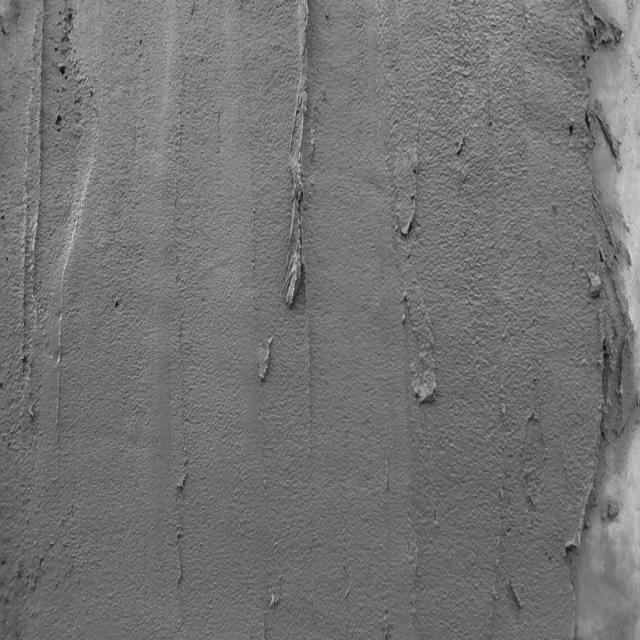trowels marks: (283, 3, 315, 449), (18, 98, 40, 382)
